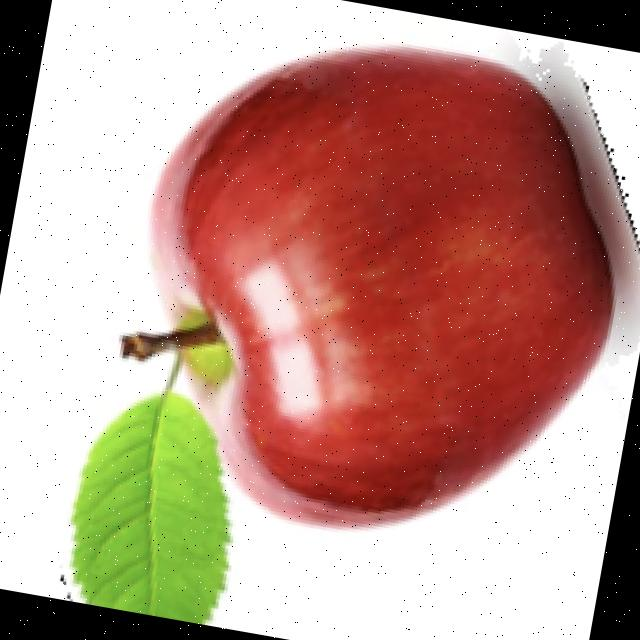apple: (55, 40, 640, 626)
